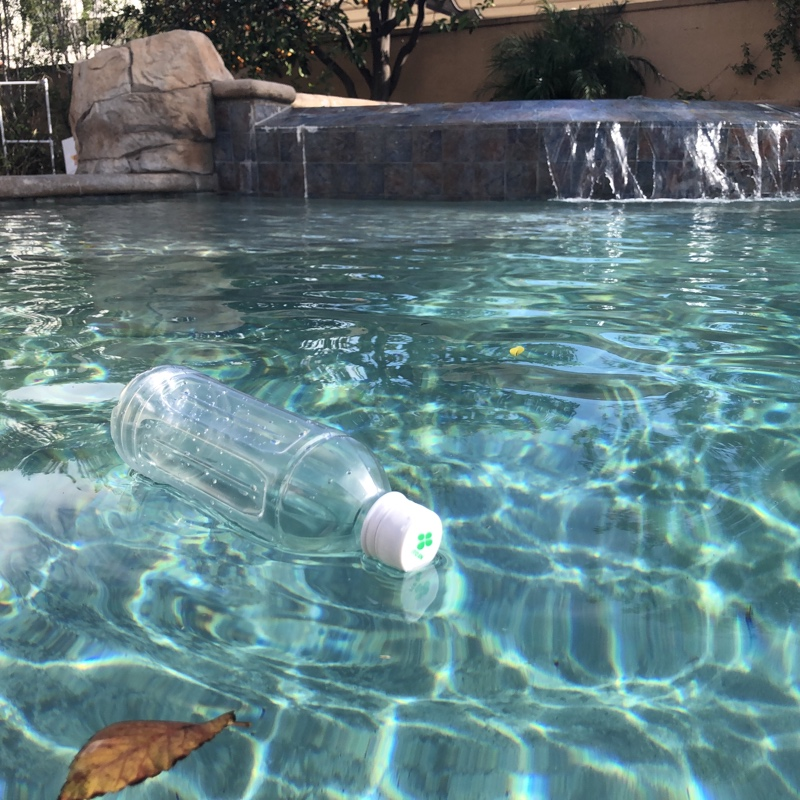Plastic Bottle: (105, 363, 446, 575)
